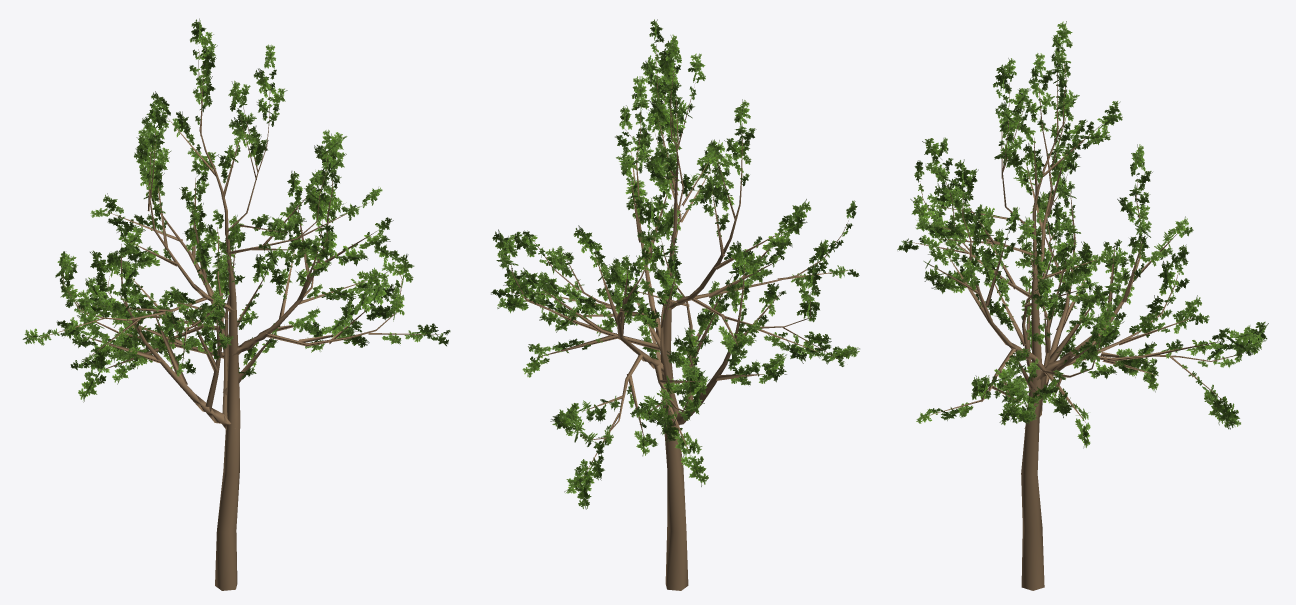
The model's file is street-lod1.glb.
The picture shows the model from 3 angles, left to right: view 1: azimuth 30°, elevation 25°; view 2: azimuth 150°, elevation 25°; view 3: azimuth 270°, elevation 25°; orthographic projection.
Visible parts, largest first — view 1: leaf cards, branches; view 2: leaf cards, branches; view 3: leaf cards, branches.
Part boxes in pixels (left/top/right/bottom): leaf cards: left=22, top=18, right=450, bottom=402; branches: left=30, top=49, right=439, bottom=590; leaf cards: left=491, top=19, right=859, bottom=509; branches: left=510, top=44, right=848, bottom=590; leaf cards: left=897, top=21, right=1268, bottom=448; branches: left=906, top=49, right=1242, bottom=590.
Size of the model in its own units: 5.77 by 8.08 by 5.06.
Materials: 2 (1 with a texture image).
